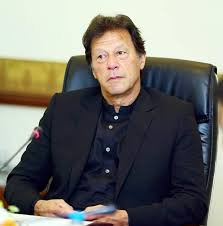noMask: (78, 14, 153, 108)
